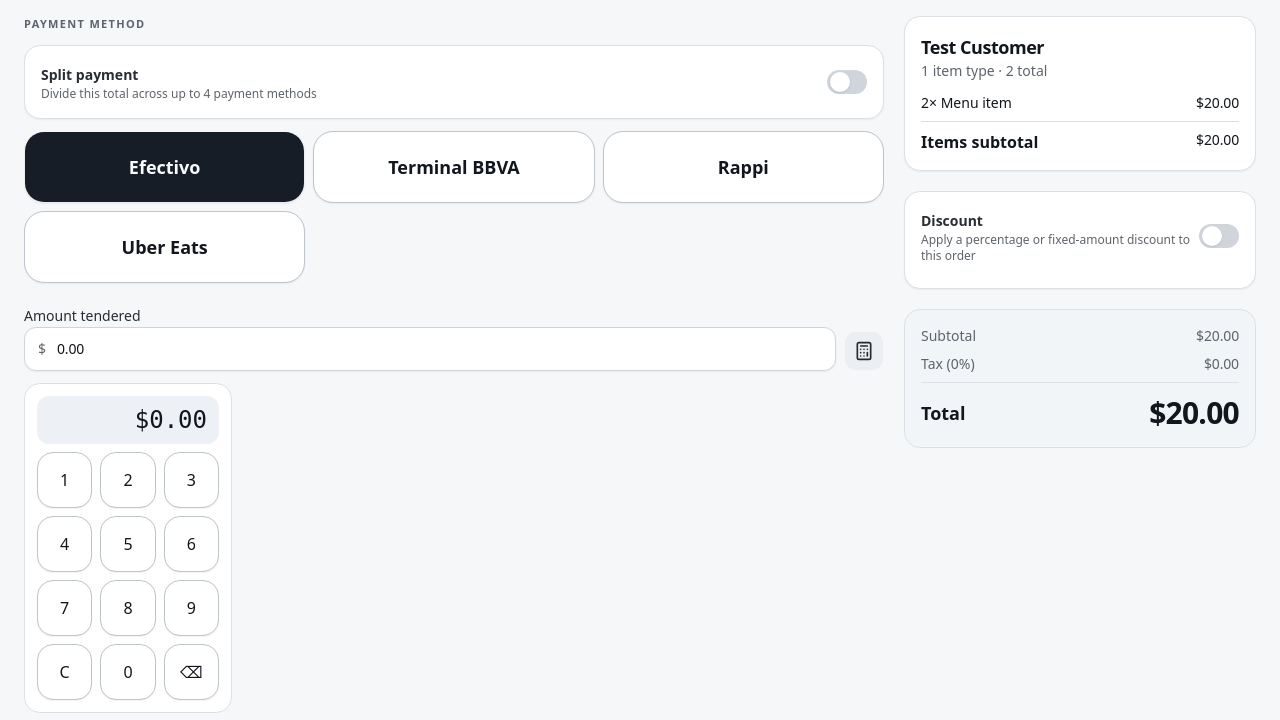
Test case: PaymentForm — card charge override › MoneyInput defaults to runningTotal when no override is set
Click the button with test id "payment-btn-card": (454, 166) [313, 130, 595, 202]
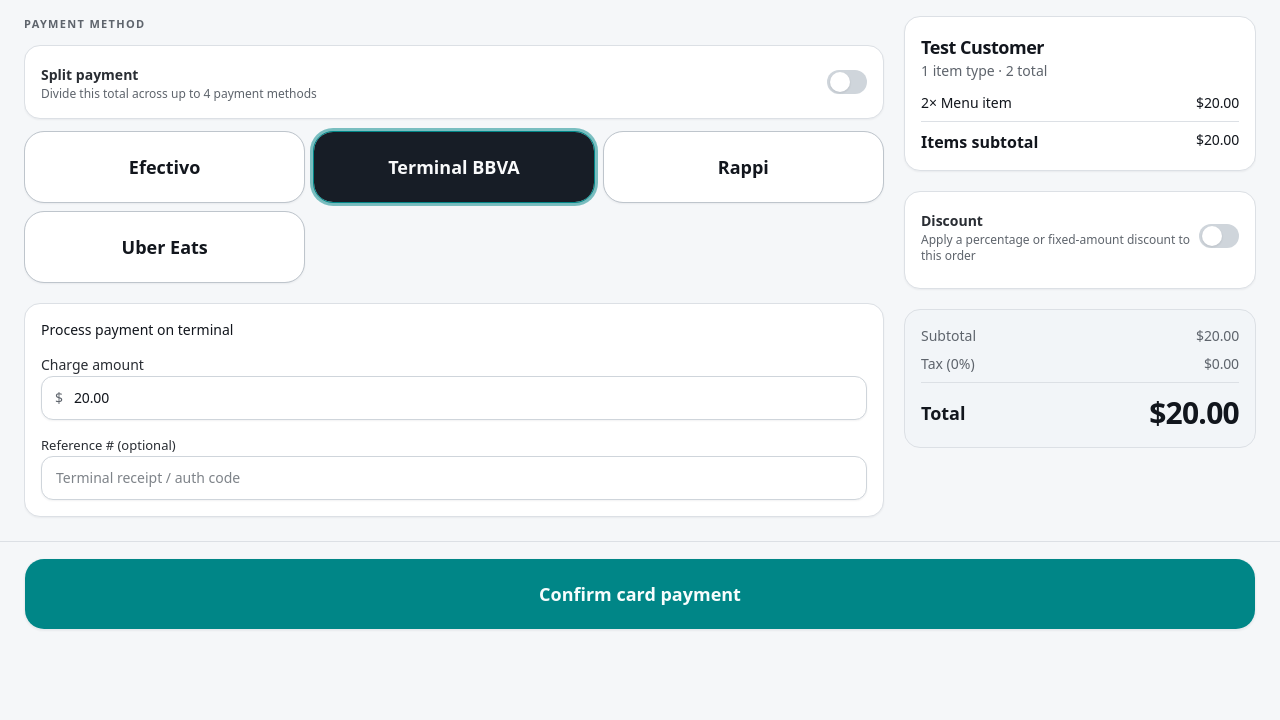
Result: the field labelled "Charge amount" holds "20.00" at [41, 376, 867, 420]
